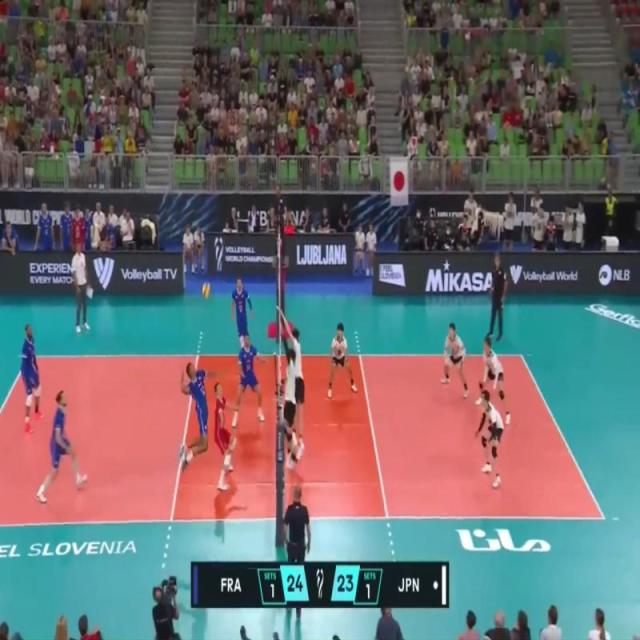volleyball: (201, 282, 211, 300)
